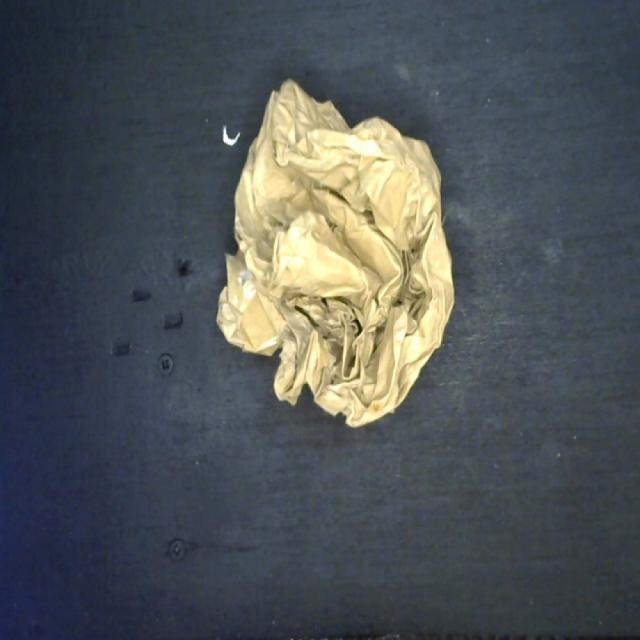biodegradable: (213, 79, 460, 440)
